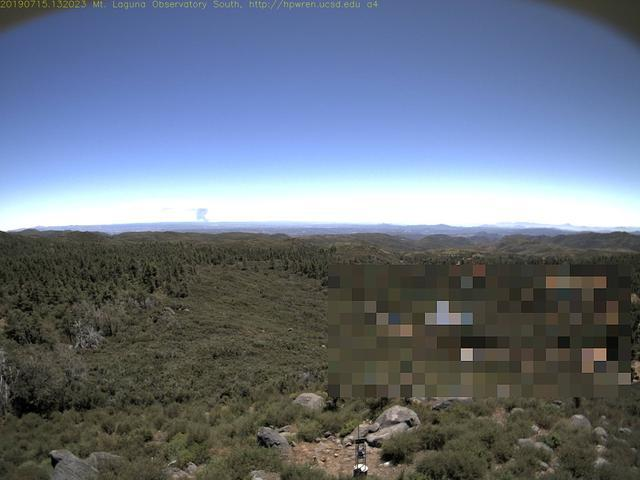smoke: (195, 204, 211, 229)
